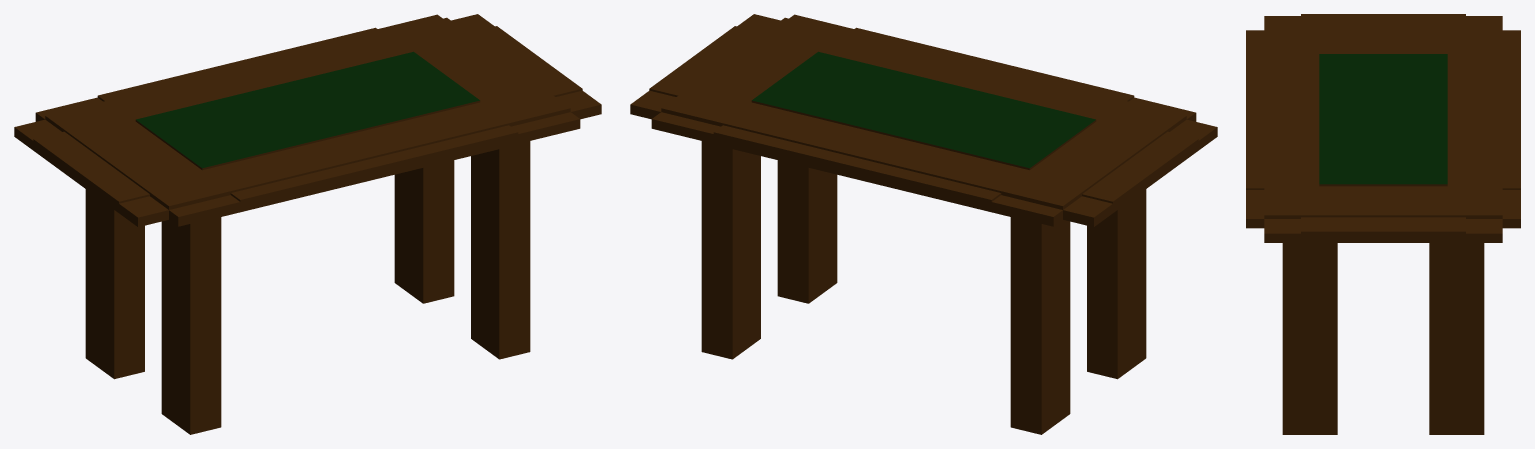
File: mesa.fbx
The picture shows the model from 3 angles, left to right: view 1: azimuth 30°, elevation 25°; view 2: azimuth 150°, elevation 25°; view 3: azimuth 270°, elevation 25°; orthographic projection. The views are drawn at different scales.
Parts seen in each view (by area): view 1: Cube_low; view 2: Cube_low; view 3: Cube_low.
Boxes of the visible parts, <box> form: Cube_low: <box>14,14,601,434</box>; Cube_low: <box>630,14,1217,434</box>; Cube_low: <box>1246,14,1520,434</box>.
Bounding box in the file's own units: 146 × 73.73 × 77.81.
